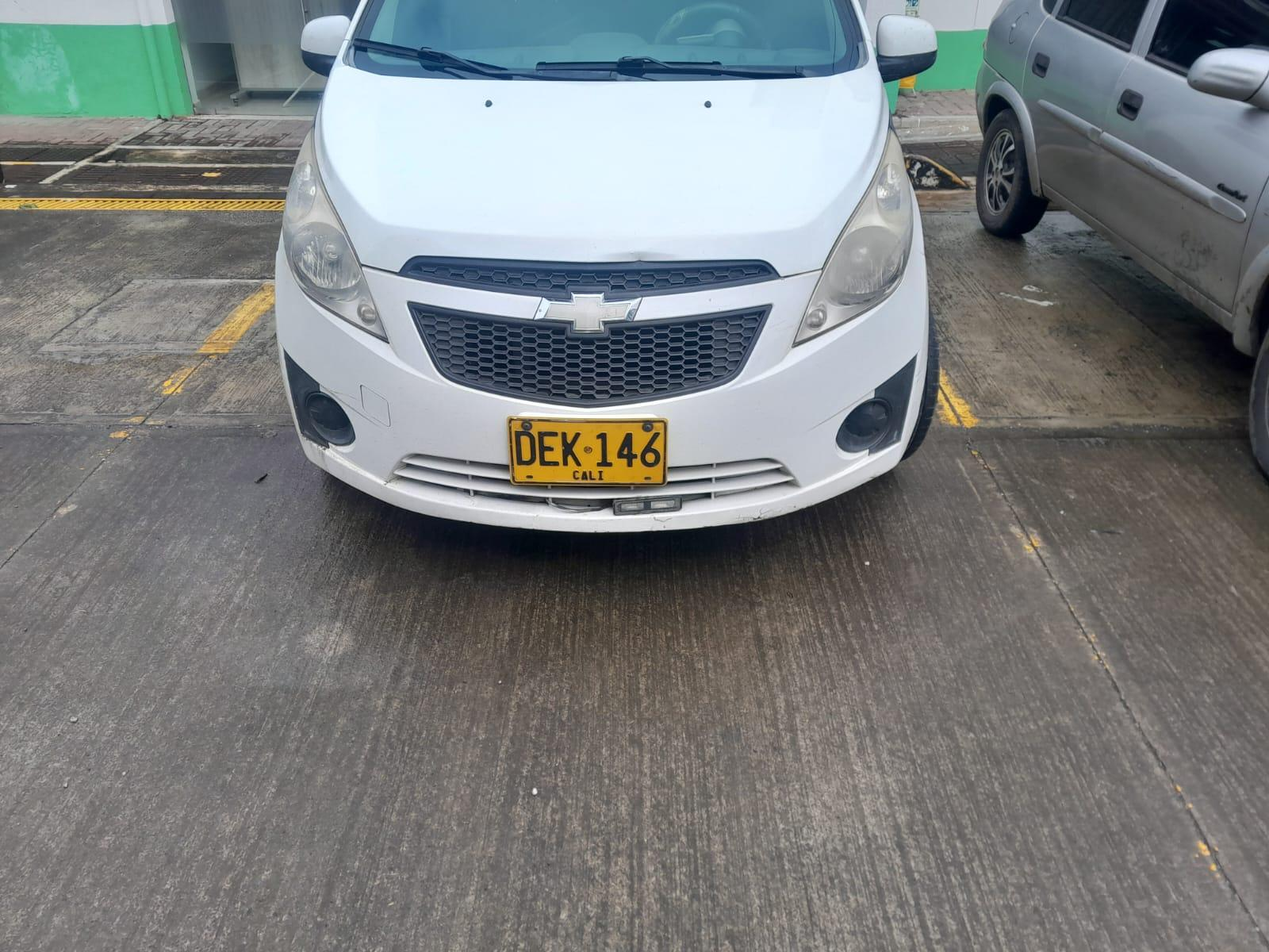placa: (508, 418, 667, 485)
